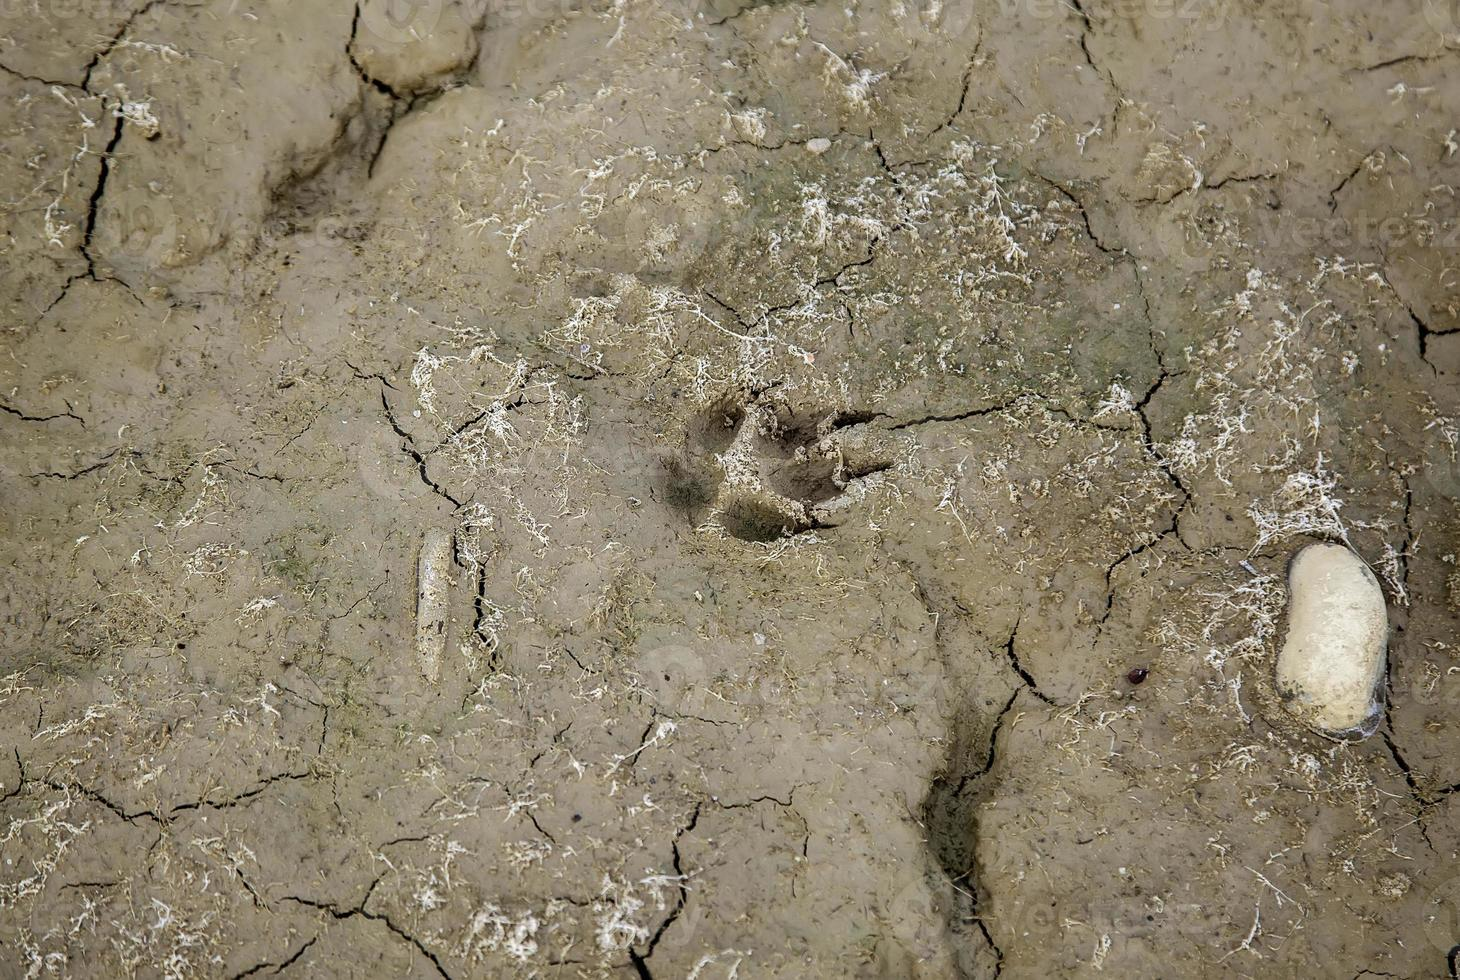chien: (657, 393, 895, 549)
